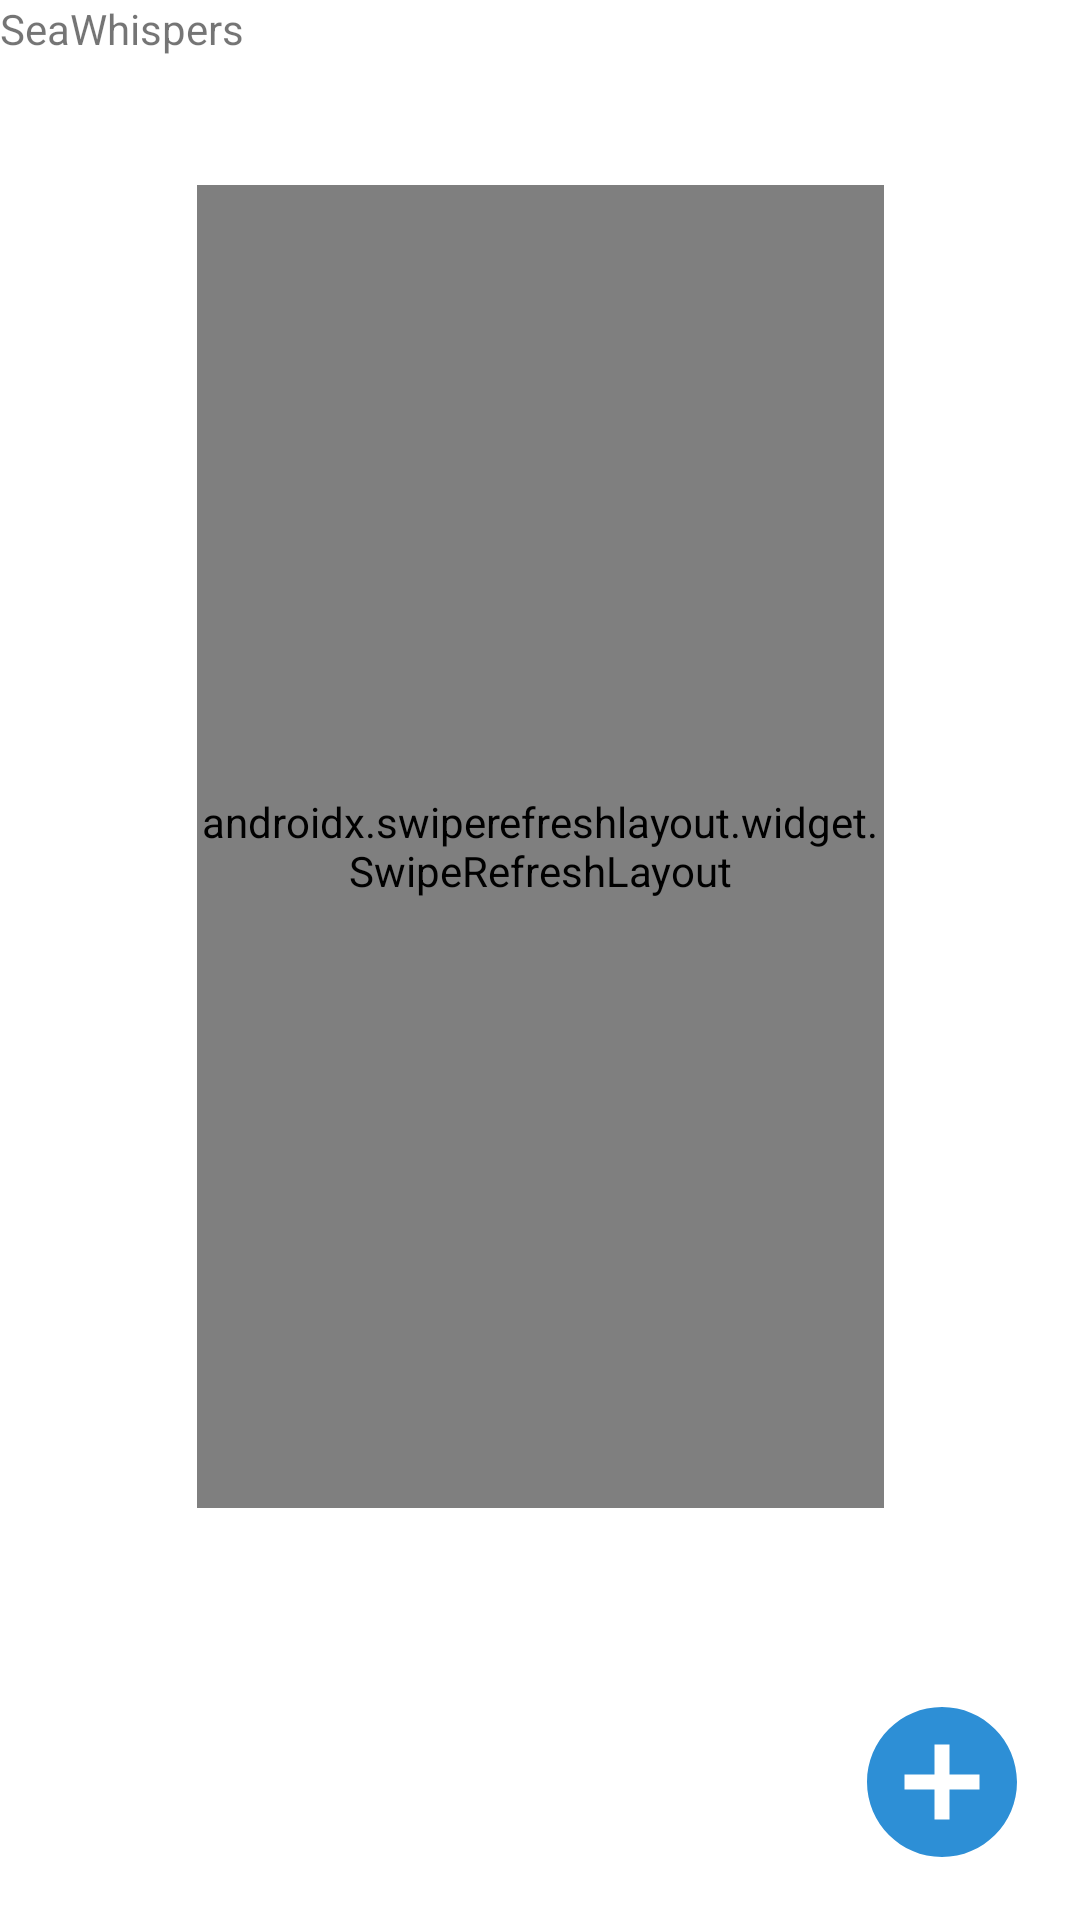

Icon bounding boxes for this 1080 x 1920 phone screenshot, format region(x1, y1, x2, y2):
create post: region(867, 1707, 1017, 1857)
